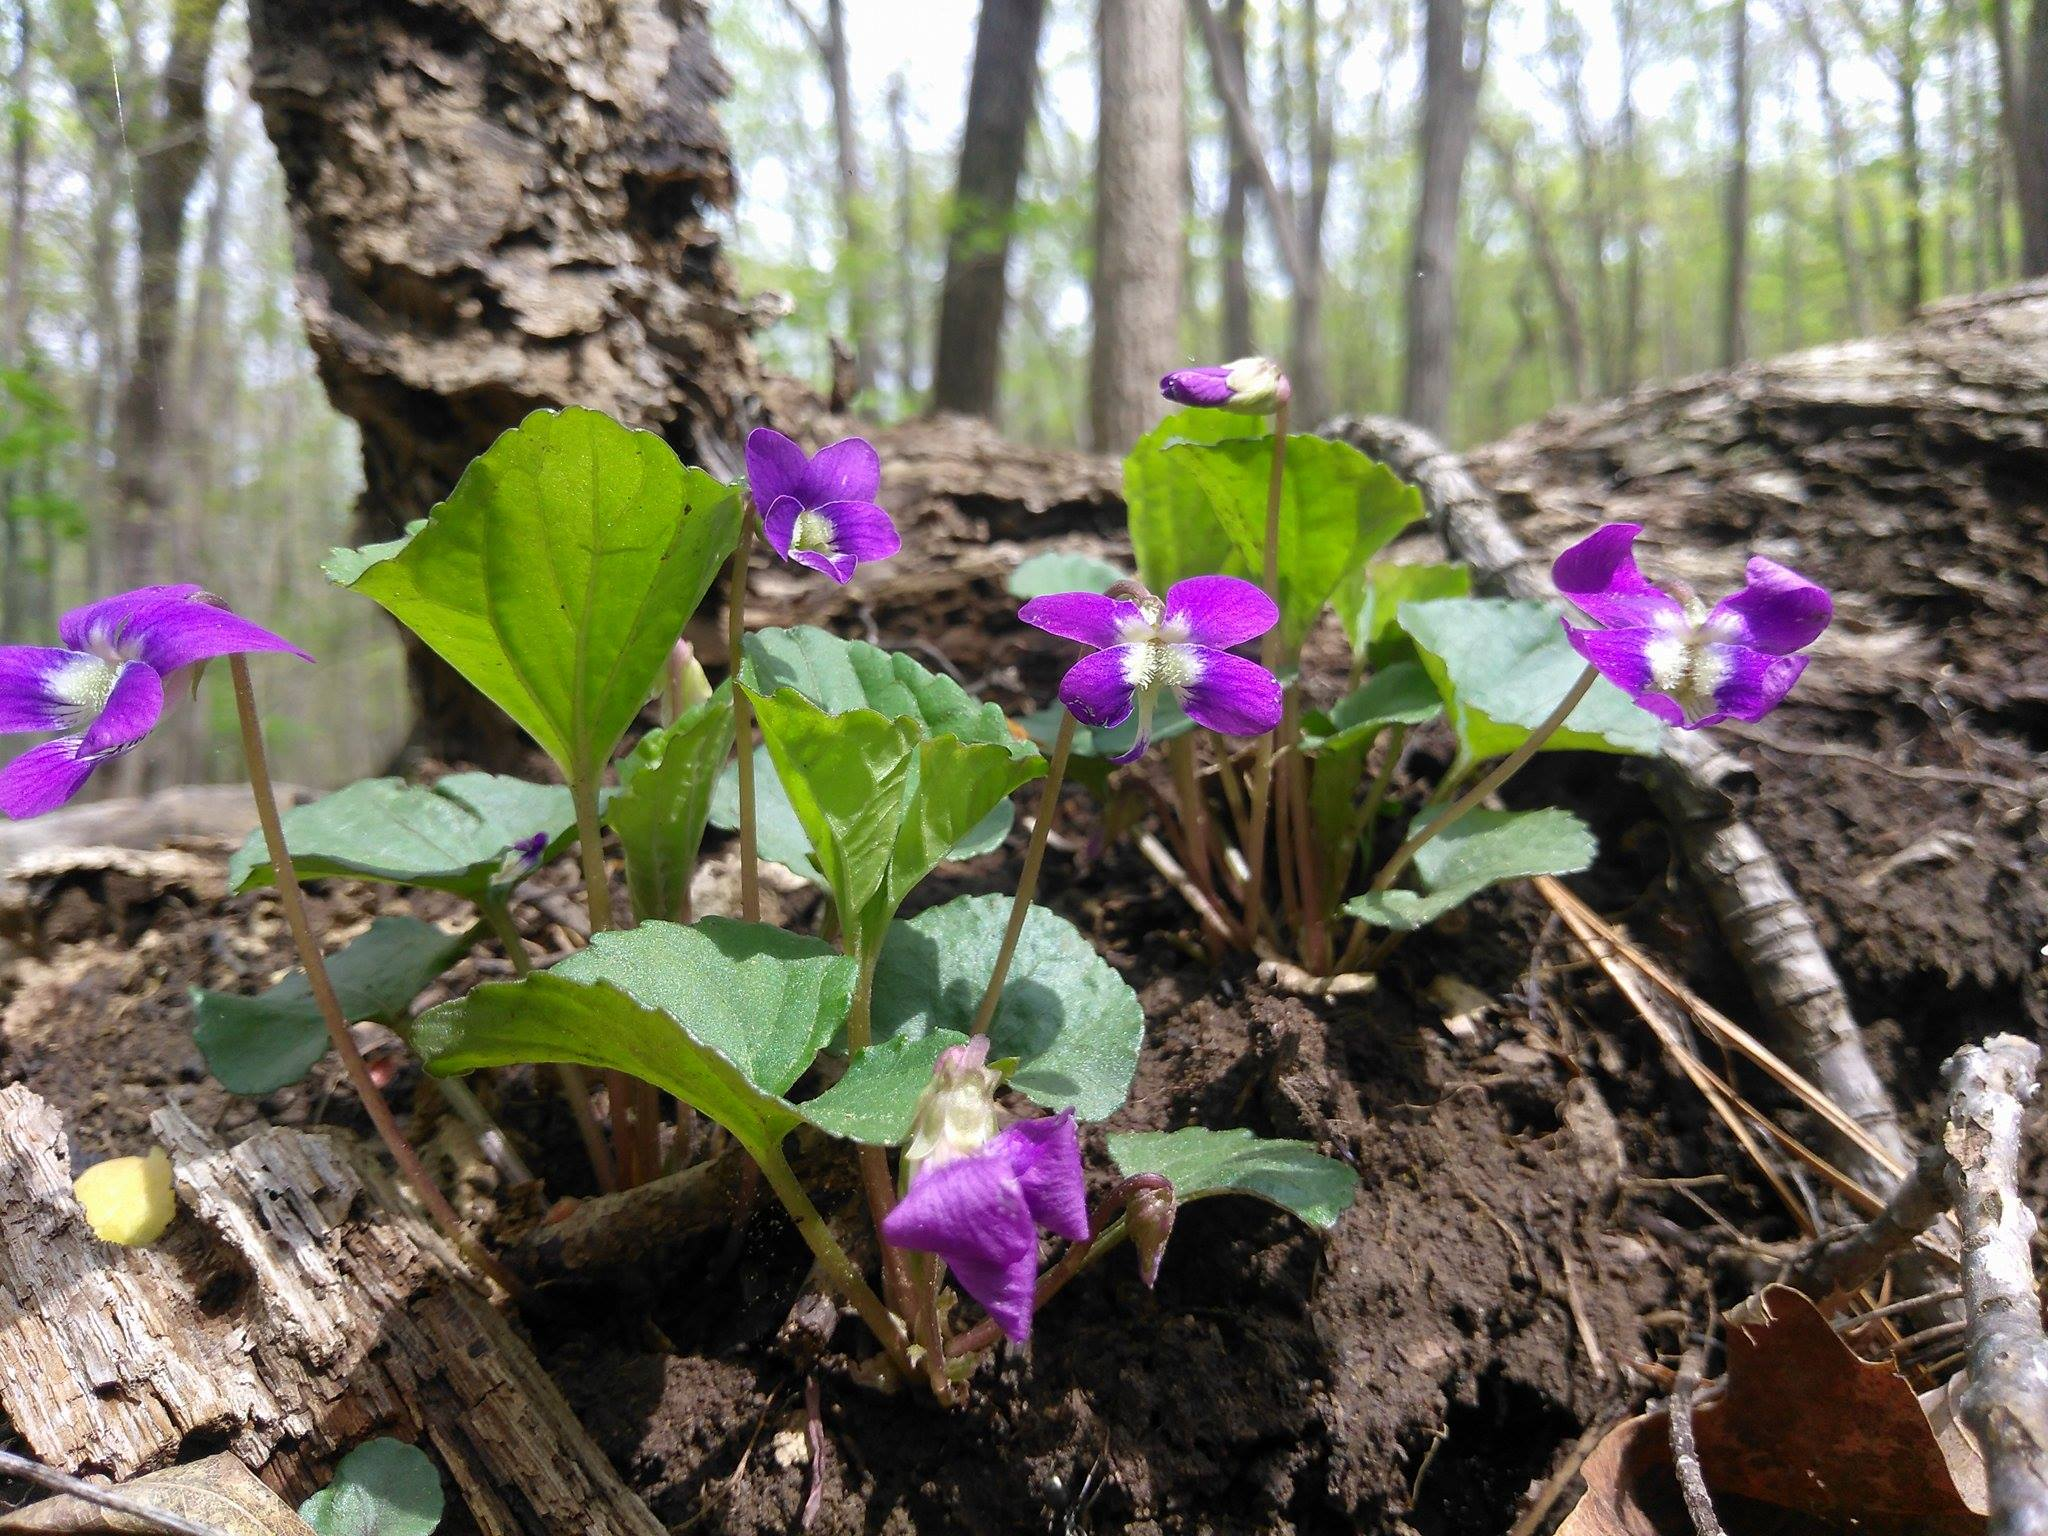violet: (1543, 503, 1842, 762), (2, 578, 319, 803), (1006, 545, 1300, 783), (871, 1058, 1098, 1347), (705, 400, 905, 595)
